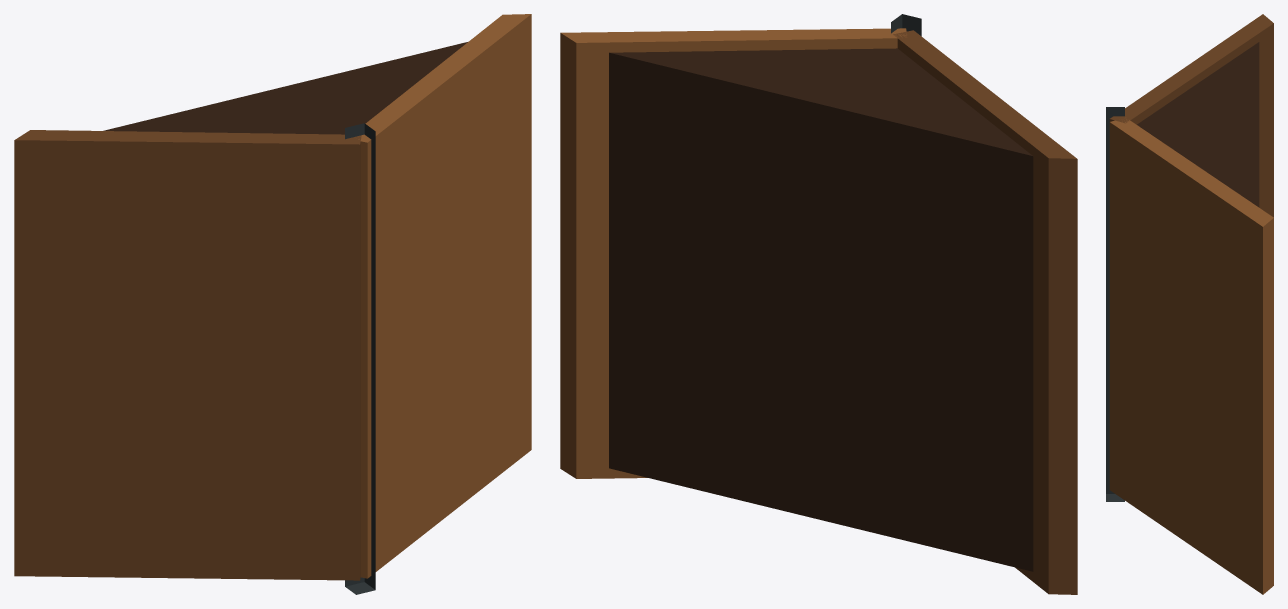
The model's file is roof_gable.obj.
3 renders of one model, left to right at view 1: azimuth 30°, elevation 25°; view 2: azimuth 150°, elevation 25°; view 3: azimuth 270°, elevation 25°, orthographic. The views are drawn at different scales.
Parts seen in each view (by area): view 1: RoofLeftSkin, RoofRightSkin, RoofCore, RidgeCap; view 2: RoofCore, RoofRightSkin, RoofLeftSkin; view 3: RoofRightSkin, RoofCore, RoofLeftSkin, RidgeCap.
Boxes of the visible parts, x1,y1,x2,y2 form: RoofLeftSkin: (14, 130, 361, 580); RoofRightSkin: (357, 14, 531, 578); RoofCore: (103, 42, 467, 134); RidgeCap: (345, 123, 375, 594); RoofCore: (609, 48, 1033, 571); RoofRightSkin: (560, 28, 906, 478); RoofLeftSkin: (893, 30, 1077, 594); RoofRightSkin: (1109, 117, 1273, 594); RoofCore: (1137, 42, 1259, 207); RoofLeftSkin: (1109, 14, 1273, 217); RidgeCap: (1106, 107, 1124, 501).
Size of the model in its own units: 6.9 by 5.85 by 2.3.
